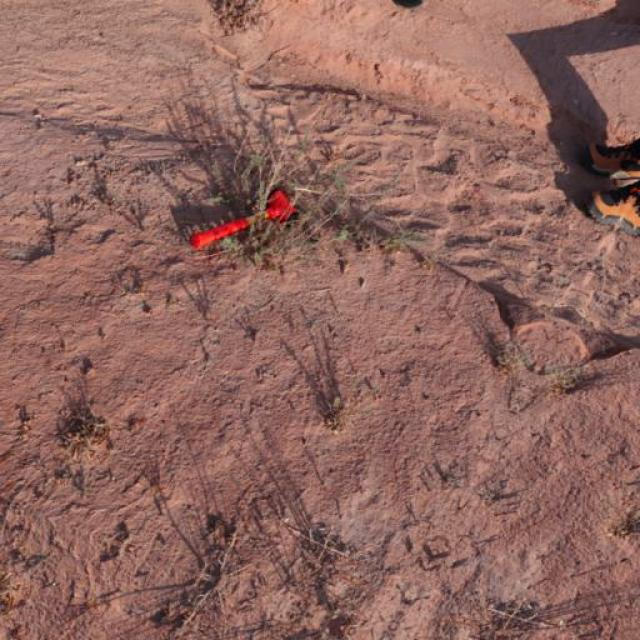mallet: (190, 188, 299, 252)
